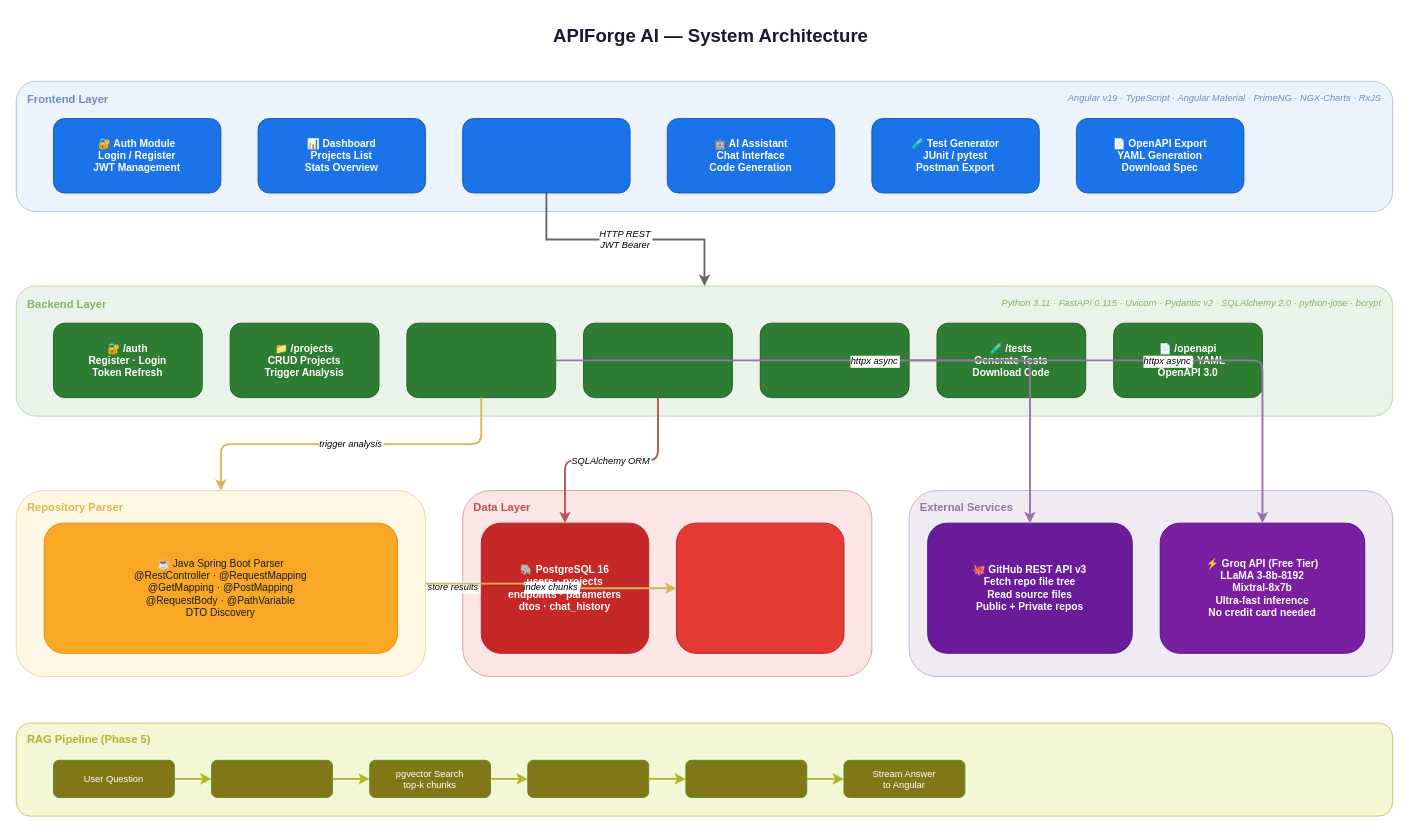
The diagram is 1409 pixels wide and 832 high, and some of its shapes have lost their labels. The centre of each missing label's shape, as x and y in pixels:
Build Prompt + Context: [588,778]
Embed Question: [271,778]
Groq LLaMA 3 Inference: [746,778]
📦 /repositories GitHub Fetch File Upload: [481,360]
🔍 /endpoints List Endpoints Get Details: [657,360]
🔍 API Explorer Endpoint List API Playground: [546,155]
🔢 pgvector knowledge_chunks vector(1536) HNSW Index Semantic Search: [760,587]
🤖 /ai Chat Endpoint RAG Pipeline: [834,360]
